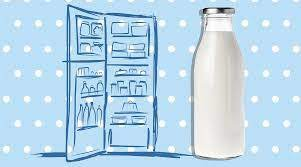milk: (195, 4, 250, 165)
